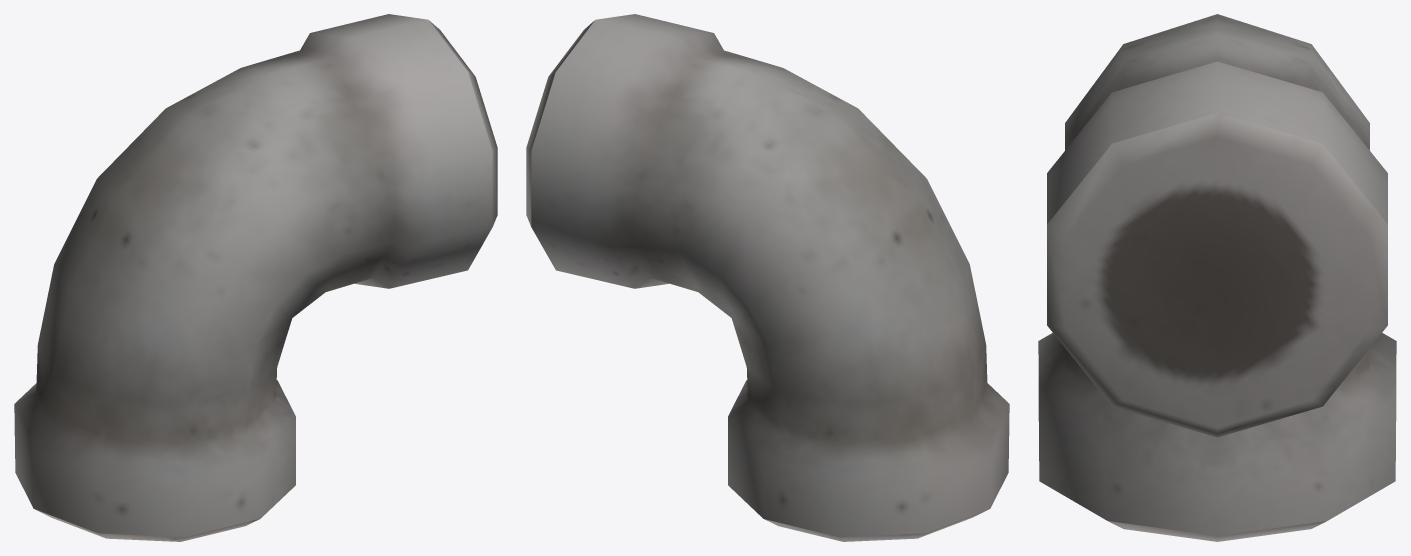
Rendered from SteelPipe_11a_snaps011.fbx.
3 renders of one model, left to right at view 1: azimuth 30°, elevation 25°; view 2: azimuth 150°, elevation 25°; view 3: azimuth 270°, elevation 25°, orthographic. The views are drawn at different scales.
Parts seen in each view (by area): view 1: SteelPipe_11a_snaps011_LOD0; view 2: SteelPipe_11a_snaps011_LOD0; view 3: SteelPipe_11a_snaps011_LOD0.
Boxes of the visible parts, x1,y1,x2,y2 form: SteelPipe_11a_snaps011_LOD0: (14, 14, 497, 541); SteelPipe_11a_snaps011_LOD0: (526, 14, 1009, 541); SteelPipe_11a_snaps011_LOD0: (1038, 14, 1396, 541).
Size of what is drawn, in the model's own units: 13.68 by 13.01 by 7.84.
